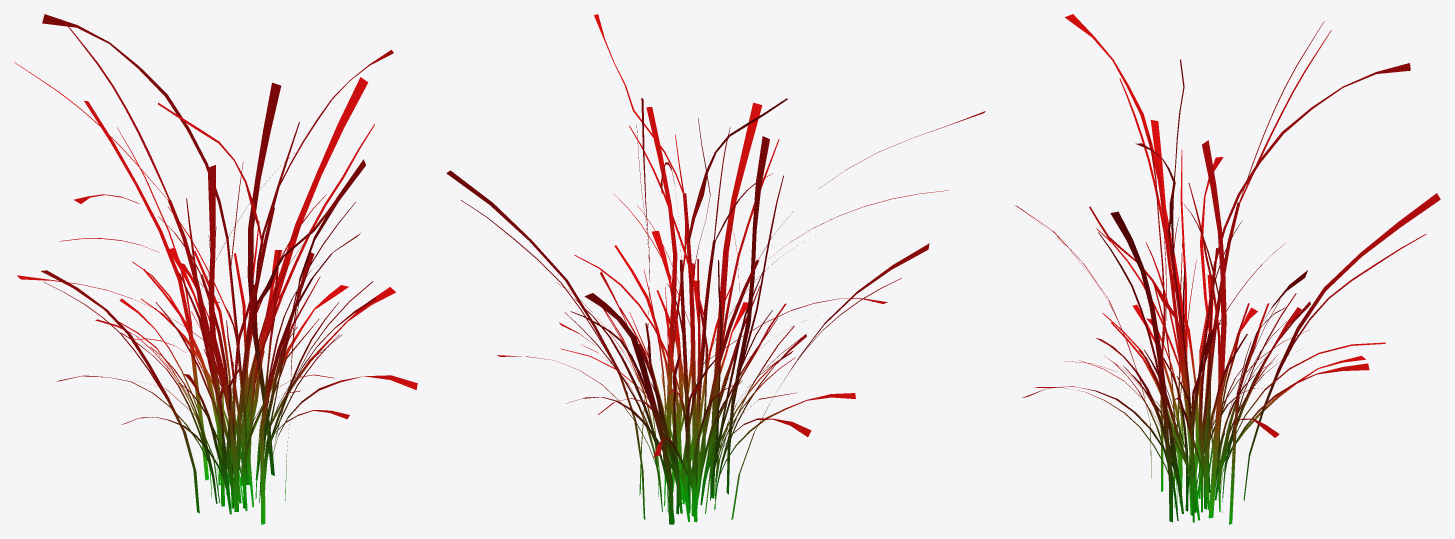
Rendered from Rough Meadow Grass_LOD1_Var5_skFjJ.fbx.
3 renders of one model, left to right at view 1: azimuth 30°, elevation 25°; view 2: azimuth 150°, elevation 25°; view 3: azimuth 270°, elevation 25°, orthographic. The views are drawn at different scales.
Visible parts, largest first — view 1: _0e70_Var5_LOD1; view 2: _0e70_Var5_LOD1; view 3: _0e70_Var5_LOD1.
Part boxes in pixels (x1,y1,x2,y2): _0e70_Var5_LOD1: (14, 14, 417, 524); _0e70_Var5_LOD1: (446, 14, 985, 524); _0e70_Var5_LOD1: (1015, 14, 1440, 524).
Bounding box in the file's own units: 77.12 × 82.05 × 71.62.
